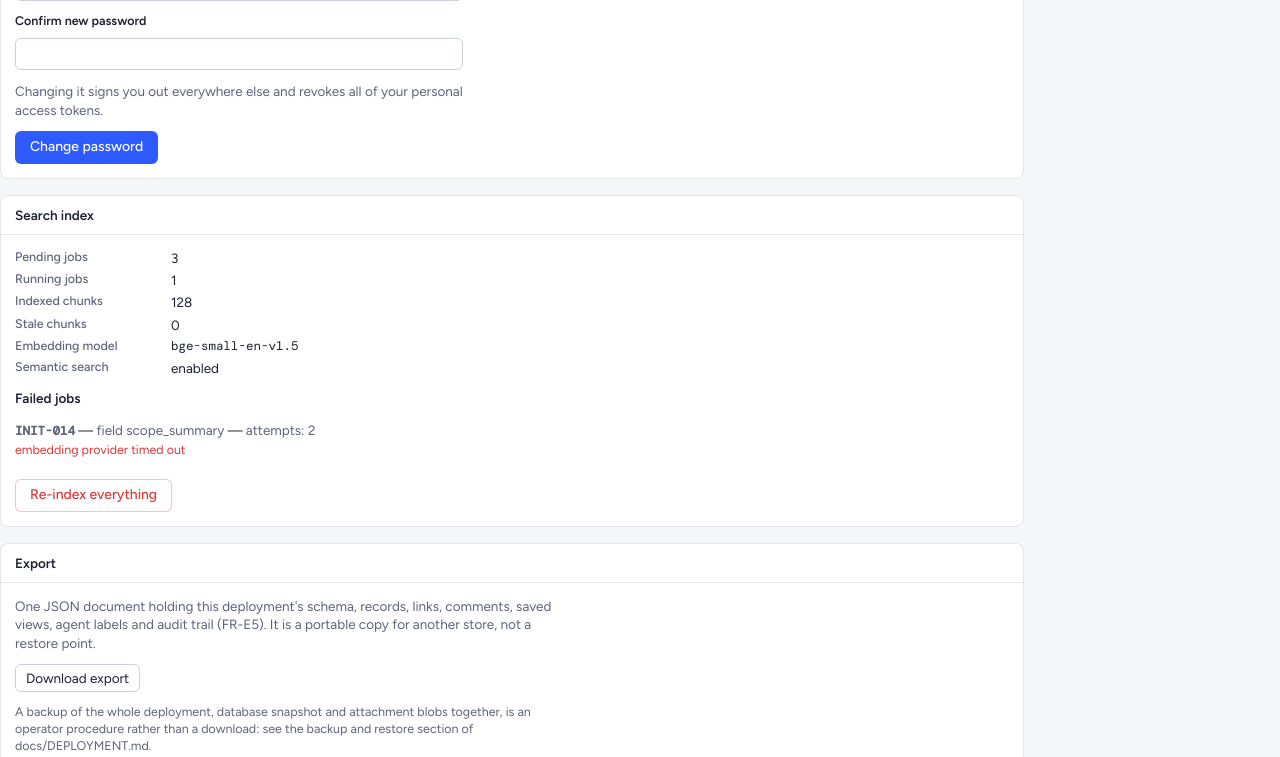
SetupPage › Search index (admin-only) › re-indexes through a confirm step and shows the enqueued count
The image size is (1280, 757).
(page scrolled)
Expected: the text "bge-small-en-v1.5" is shown, [171,338,298,354]
Step 1. Click the button "Re-index everything" → {"x": 94, "y": 495}, box [15,479,172,512]
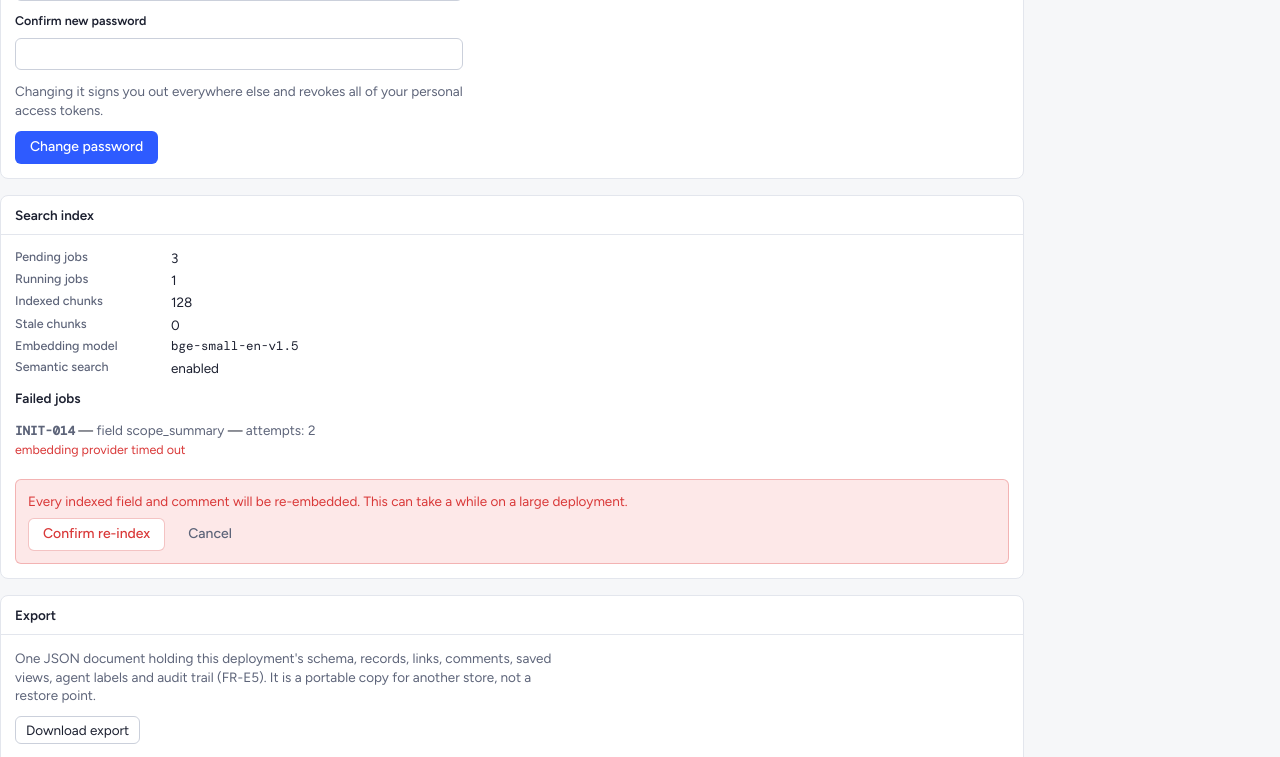
Result: the text "Every indexed field and comment will be re-embedded" is shown at [28,493,628,509]
Step 2. Click the button "Confirm re-index" → {"x": 97, "y": 535}, box [28,518,165,551]
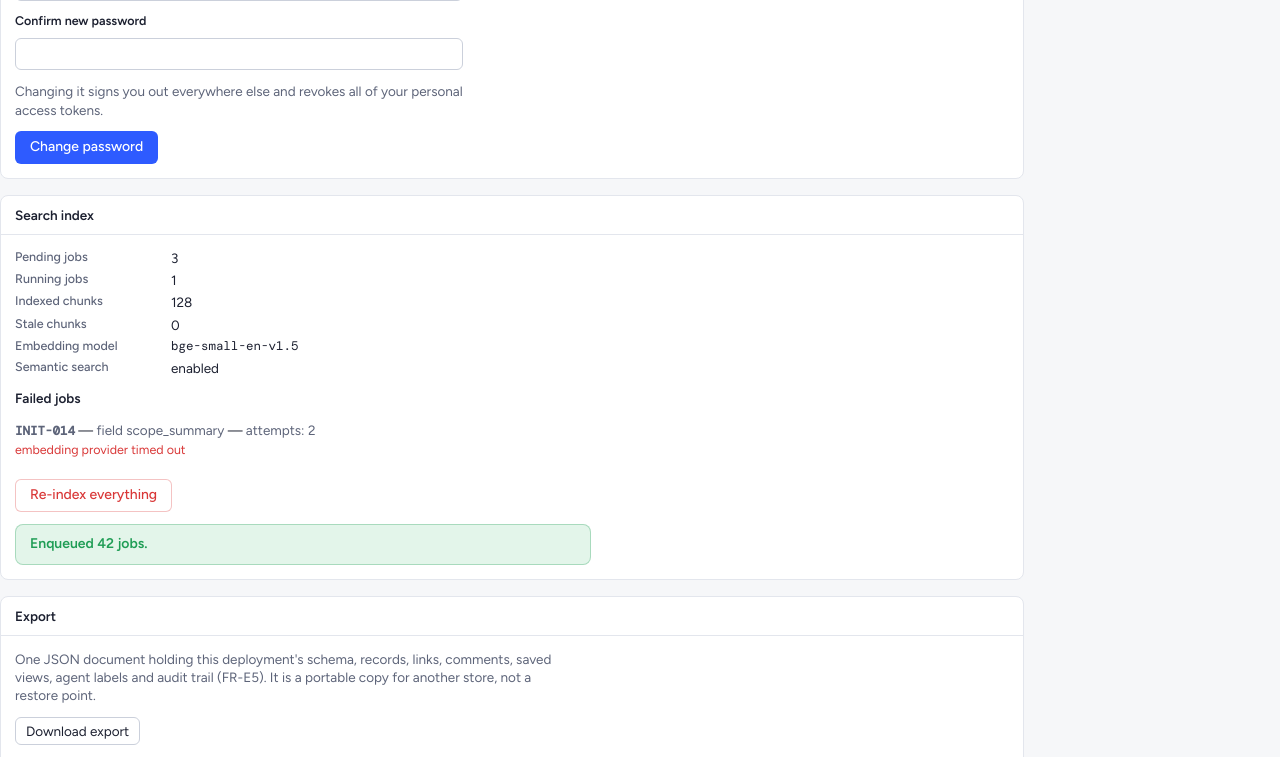
Result: the message with test id "reindex-result" reads "Enqueued 42 jobs." at [30,535,148,552]
